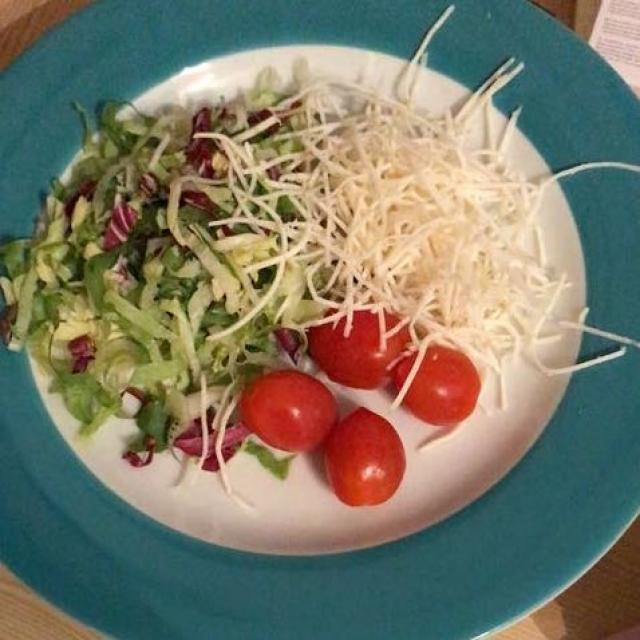cheese: (302, 80, 574, 379)
salad: (14, 98, 319, 491)
tomato: (241, 299, 481, 520)
